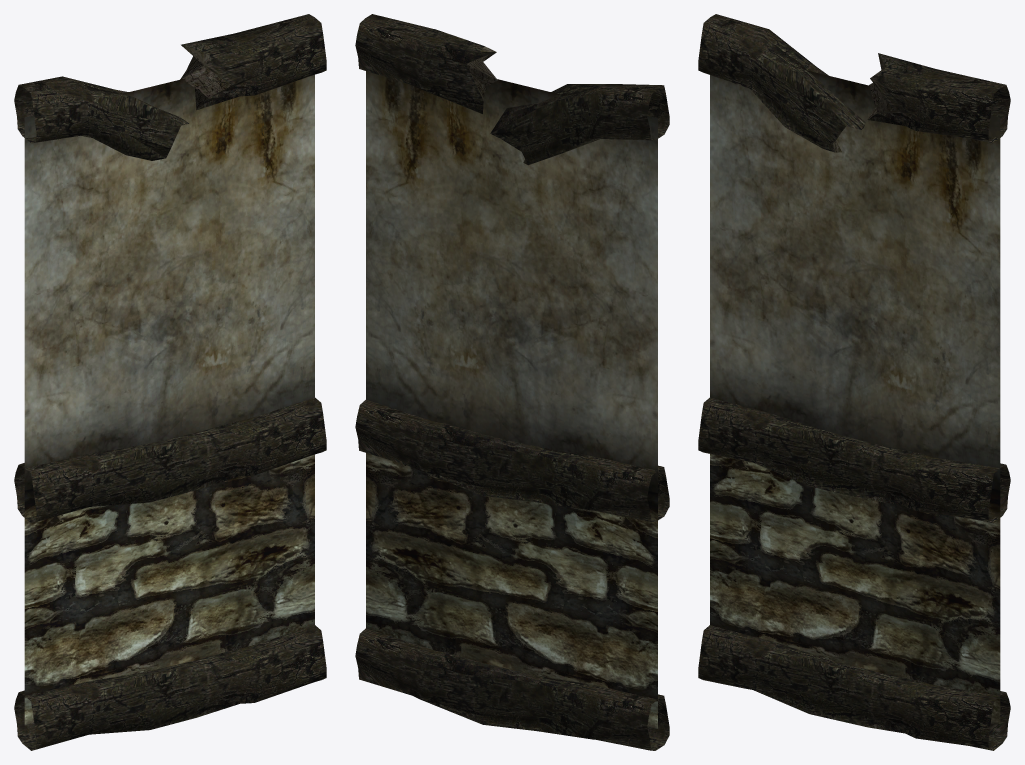
Rendered from short_decayed02.dae.
3 views of the same model, side by side, from view 1: azimuth 30°, elevation 25°; view 2: azimuth 150°, elevation 25°; view 3: azimuth 330°, elevation 25° (orthographic).
Parts seen in each view (by area): view 1: pPlane3, polySurface6; view 2: pPlane3, polySurface6; view 3: pPlane3, polySurface6.
Part boxes in pixels (left/top/right/bottom): pPlane3: left=24, top=74, right=314, bottom=725; polySurface6: left=14, top=14, right=326, bottom=750; pPlane3: left=366, top=71, right=657, bottom=728; polySurface6: left=355, top=14, right=669, bottom=750; pPlane3: left=710, top=70, right=1000, bottom=725; polySurface6: left=698, top=14, right=1010, bottom=750.
Size of the model in its own units: 2 by 4.38 by 0.3257.
